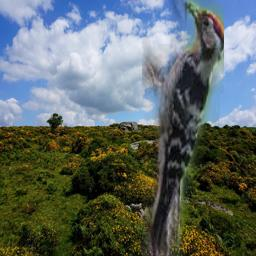Woodpecker: (142, 0, 224, 256)
